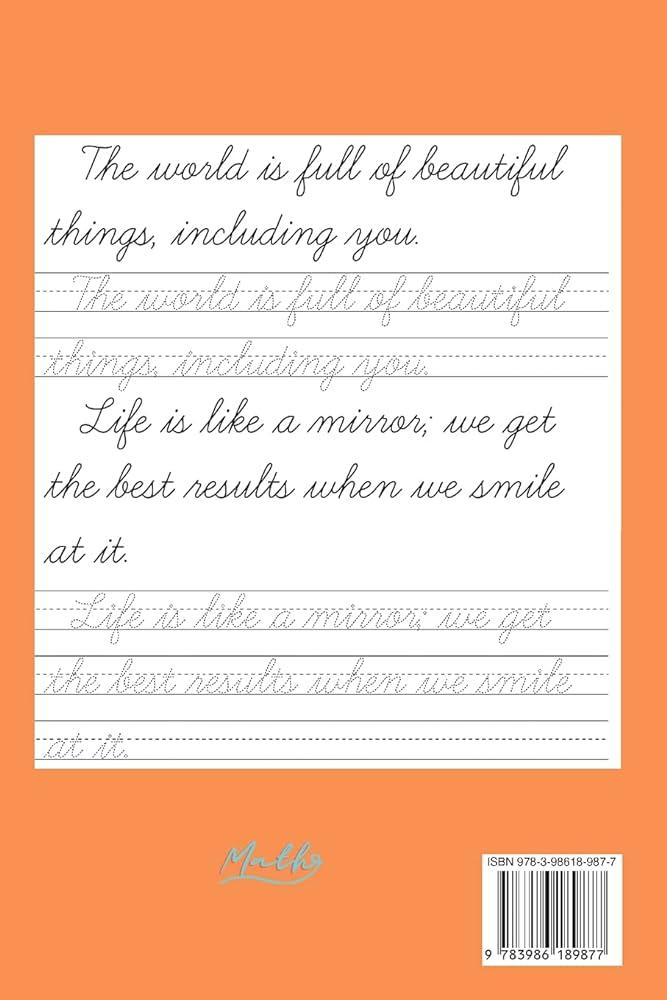text: (75, 137, 573, 203), (75, 393, 562, 454), (69, 270, 577, 328), (66, 586, 558, 645), (39, 457, 570, 504), (39, 653, 577, 699), (39, 205, 424, 264), (39, 337, 434, 393), (214, 835, 326, 890), (39, 531, 130, 569), (39, 729, 132, 764), (483, 853, 618, 870), (483, 948, 607, 964)
